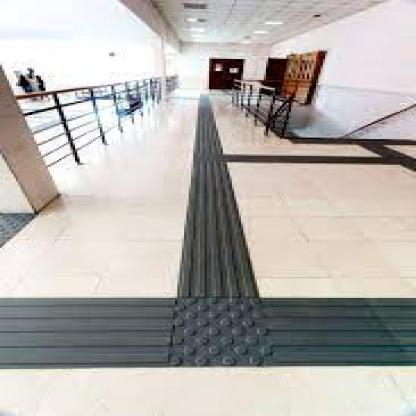podotacti: (0, 79, 416, 368)
